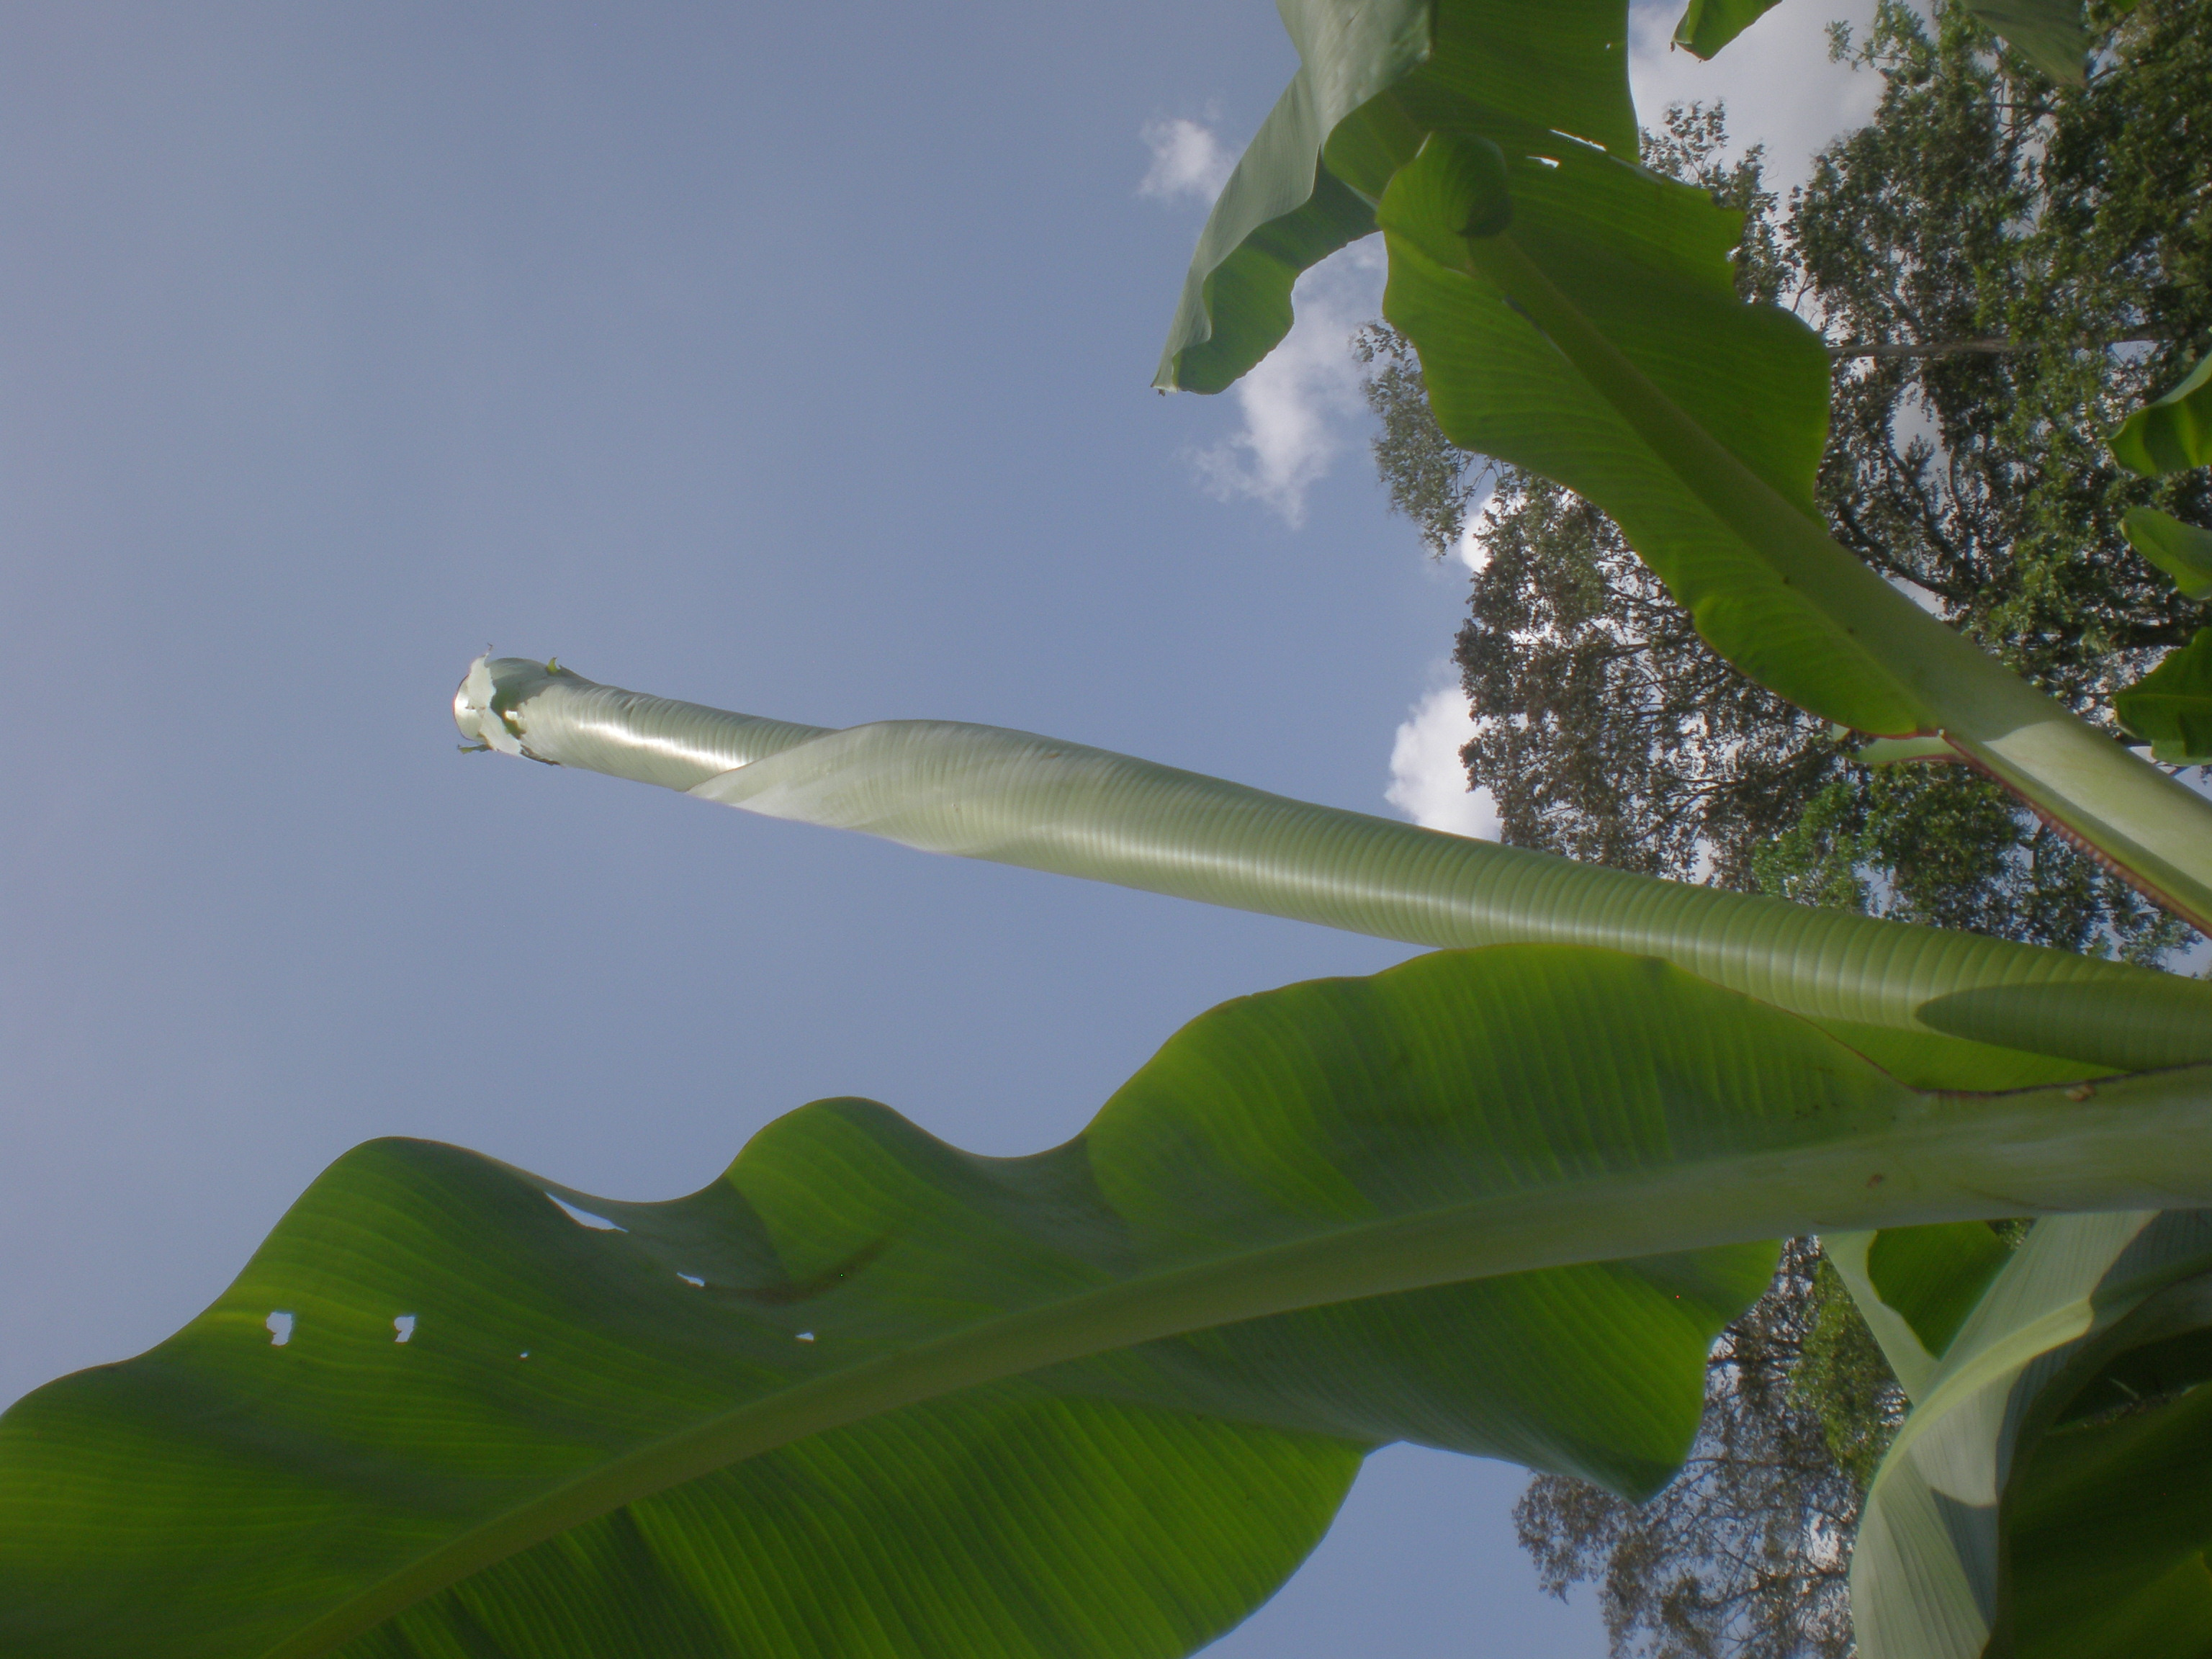candleleafs: (444, 643, 2212, 1079)
